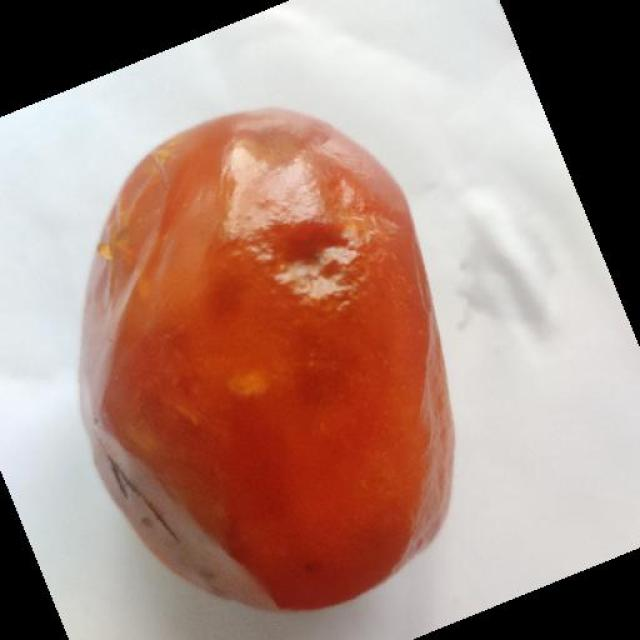Stale_tomato: (54, 96, 443, 583)
